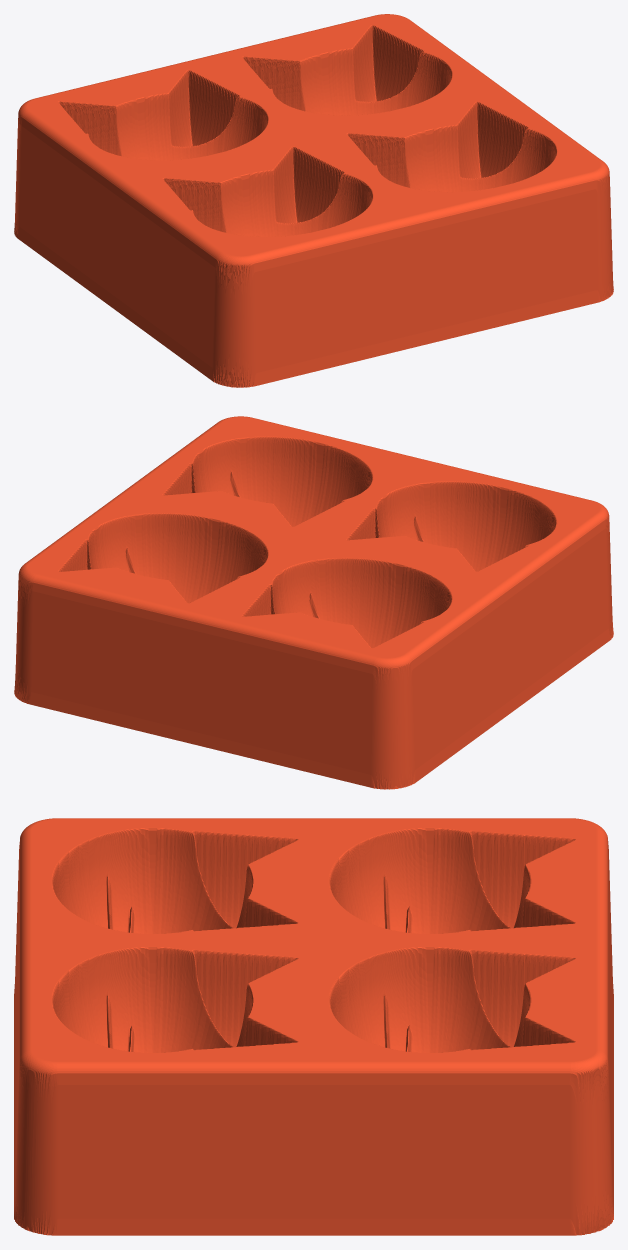
The model's file is mold.glb.
The picture shows the model from 3 angles, top to bottom: view 1: azimuth 30°, elevation 25°; view 2: azimuth 150°, elevation 25°; view 3: azimuth 270°, elevation 25°; orthographic projection. The views are drawn at different scales.
Parts seen in each view (by area): view 1: geometry_0; view 2: geometry_0; view 3: geometry_0.
Part boxes in pixels (x1,y1,x2,y2): geometry_0: (14,14,613,387); geometry_0: (14,416,613,789); geometry_0: (14,818,613,1235).
Bounding box in the file's own units: 0.1248 × 0.0377 × 0.1231.
